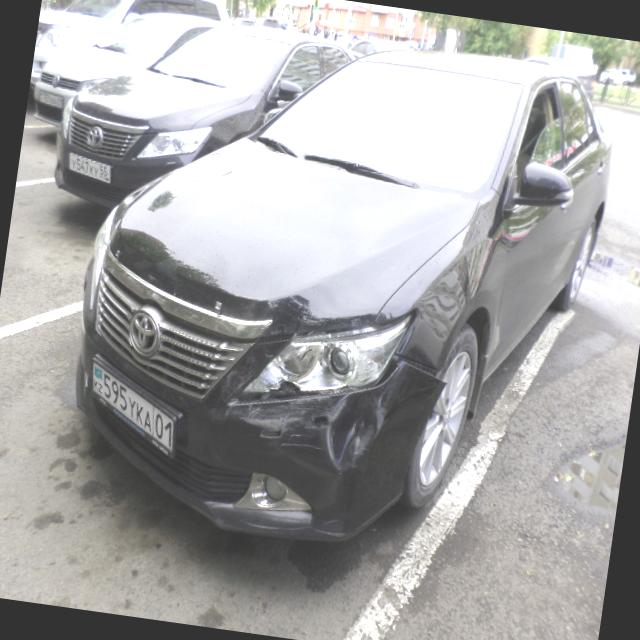Cabossage: (322, 385, 384, 489)
Rayure: (238, 389, 336, 436)
